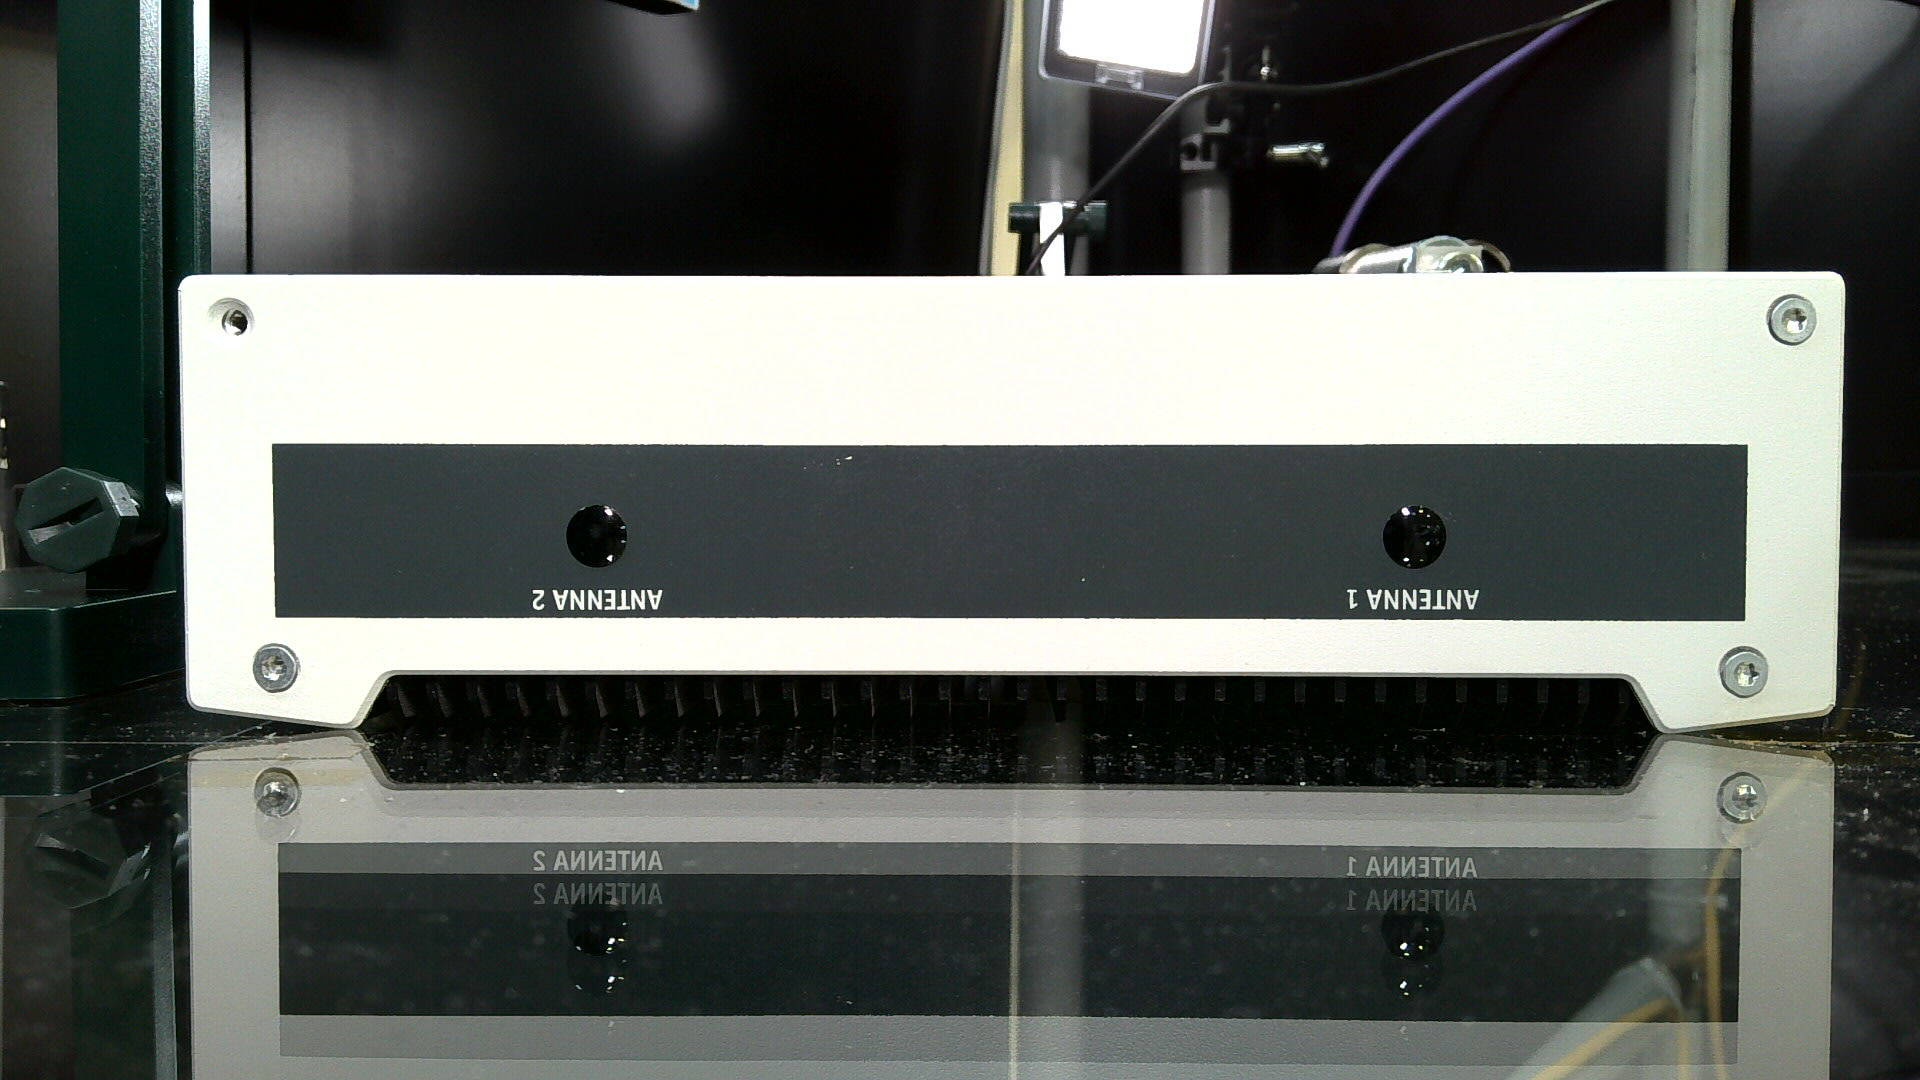CamBack: (138, 240, 1880, 740)
Loch: (193, 291, 264, 357)
Schraube_gespiegelt: (244, 761, 307, 849), (1712, 767, 1774, 856)
Schraube_halb: (1712, 638, 1779, 707), (1756, 287, 1824, 353), (243, 637, 307, 702)
